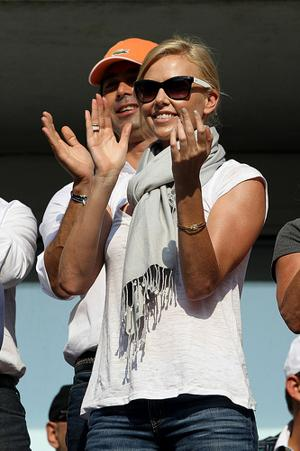person: (59, 38, 269, 451)
